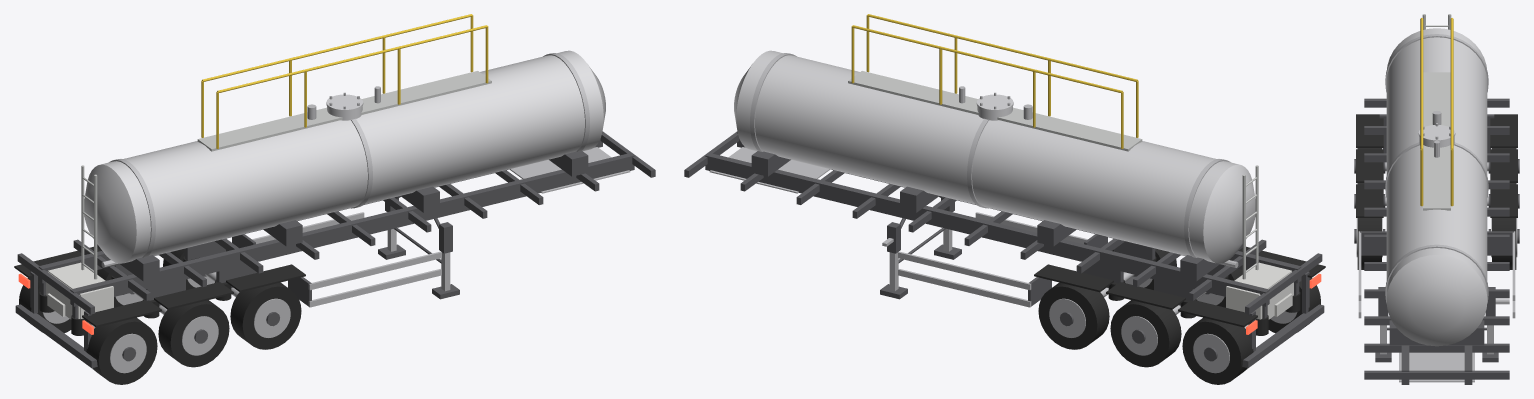
The model's file is SM_AcidTankTrailer.fbx.
3 renders of one model, left to right at view 1: azimuth 30°, elevation 25°; view 2: azimuth 150°, elevation 25°; view 3: azimuth 270°, elevation 25°, orthographic.
Parts seen in each view (by area): view 1: AT_Tank, AT_Chassis, AT_Wheel_A1R, AT_Wheel_A2R, AT_Wheel_A3R, AT_Handrail, AT_ValveCabinet, AT_LandingLegs, AT_Wheel_A3L, AT_ManwayLid; view 2: AT_Tank, AT_Chassis, AT_Wheel_A1L, AT_Wheel_A2L, AT_Wheel_A3L, AT_Handrail, AT_ValveCabinet, AT_LandingLegs, AT_Wheel_A3R, AT_ManwayLid; view 3: AT_Tank, AT_Chassis, AT_Handrail, AT_Wheel_A1L, AT_Wheel_A1R, AT_LandingLegs, AT_ManwayLid.
Part boxes in pixels (x1=…): AT_Tank: x1=81, y1=50, x2=605, y2=279; AT_Chassis: x1=14, y1=131, x2=655, y2=368; AT_Wheel_A1R: x1=230, y1=282, x2=301, y2=349; AT_Wheel_A2R: x1=158, y1=300, x2=229, y2=367; AT_Wheel_A3R: x1=86, y1=317, x2=157, y2=384; AT_Handrail: x1=201, y1=14, x2=488, y2=148; AT_ValveCabinet: x1=48, y1=262, x2=113, y2=318; AT_LandingLegs: x1=378, y1=228, x2=459, y2=299; AT_Wheel_A3L: x1=19, y1=276, x2=71, y2=333; AT_ManwayLid: x1=326, y1=92, x2=363, y2=112; AT_Tank: x1=734, y1=50, x2=1258, y2=279; AT_Chassis: x1=684, y1=131, x2=1325, y2=368; AT_Wheel_A1L: x1=1038, y1=282, x2=1109, y2=349; AT_Wheel_A2L: x1=1110, y1=300, x2=1181, y2=367; AT_Wheel_A3L: x1=1182, y1=317, x2=1253, y2=384; AT_Handrail: x1=851, y1=14, x2=1138, y2=148; AT_ValveCabinet: x1=1226, y1=262, x2=1291, y2=318; AT_LandingLegs: x1=880, y1=228, x2=961, y2=299; AT_Wheel_A3R: x1=1268, y1=276, x2=1320, y2=333; AT_ManwayLid: x1=976, y1=92, x2=1013, y2=112; AT_Tank: x1=1385, y1=14, x2=1488, y2=346; AT_Chassis: x1=1356, y1=98, x2=1517, y2=384; AT_Handrail: x1=1420, y1=18, x2=1453, y2=206; AT_Wheel_A1L: x1=1488, y1=218, x2=1519, y2=269; AT_Wheel_A1R: x1=1354, y1=218, x2=1385, y2=269; AT_LandingLegs: x1=1375, y1=325, x2=1498, y2=362; AT_ManwayLid: x1=1418, y1=123, x2=1455, y2=142.
Bounding box in the file's own units: 1029 × 417 × 263.
